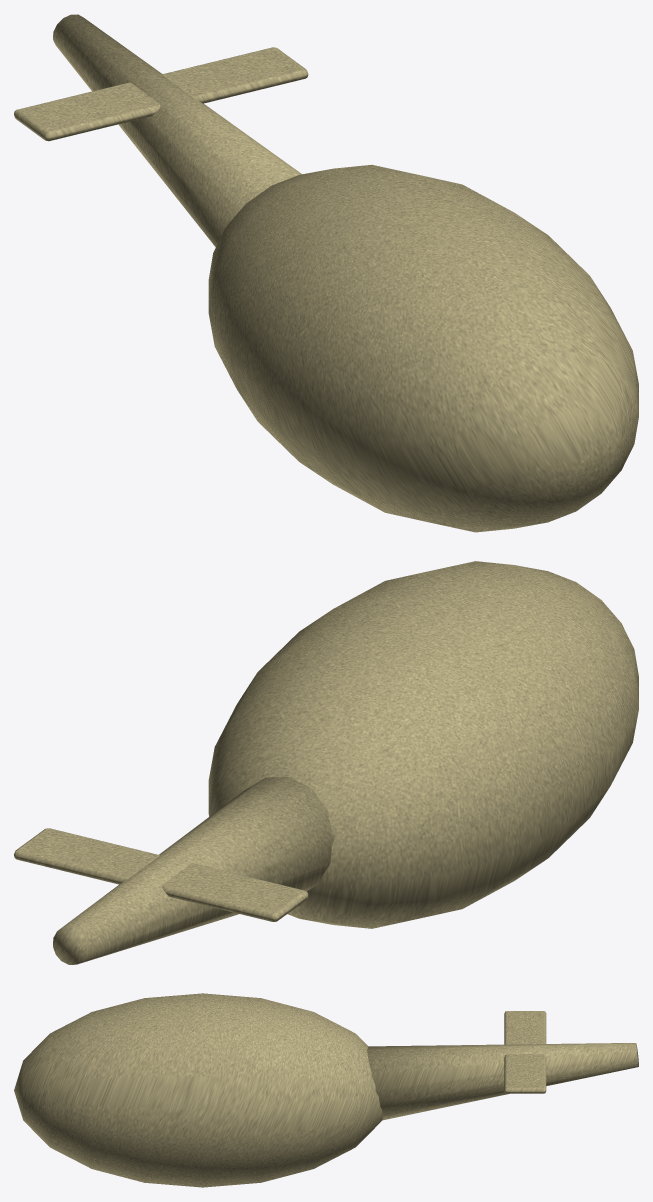
3 renders of one model, top to bottom at view 1: azimuth 30°, elevation 25°; view 2: azimuth 150°, elevation 25°; view 3: azimuth 270°, elevation 25°, orthographic. The views are drawn at different scales.
Size of the model in its own units: 2.34 by 2.04 by 6.69.
1 material, 1 textured.
